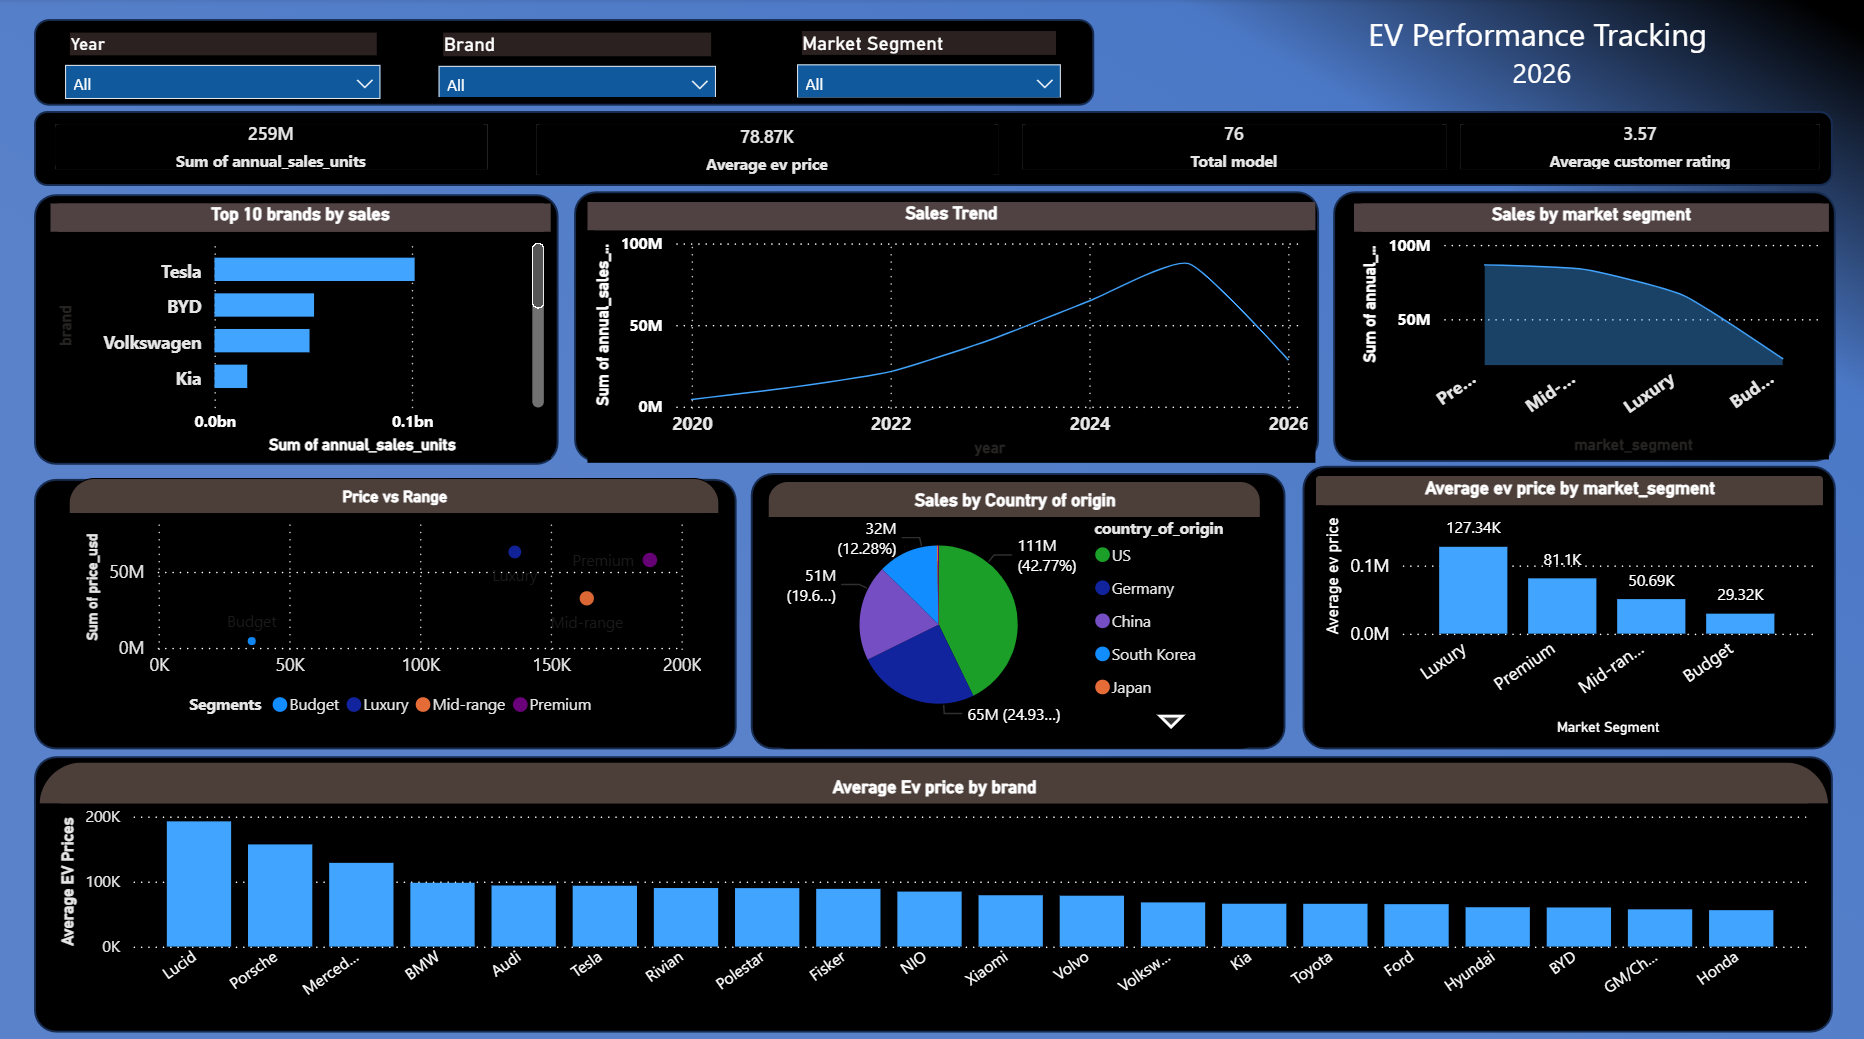

The dashboard page shown, as its layout file describes it:
{"tool":"powerbi","page":{"name":"Page 1","canvas":[1280,720],"ordinal":0},"visuals":[{"type":"cardVisual","title":"Average EV Price","fields":{"Data":["ev_market_2026.Average ev price"]},"box":[363.4,81.4,326.7,45.9],"z":2000},{"type":"columnChart","fields":{"Y":["ev_market_2026.Average ev price"],"Category":["ev_market_2026.market_segment"]},"box":[902.1,326.7,348.5,185.7],"z":3000},{"type":"cardVisual","fields":{"Data":["Sum(ev_market_2026.annual_sales_units)"]},"box":[34.4,81.4,306.1,41.3],"z":4000},{"type":"cardVisual","fields":{"Data":["ev_market_2026.Total model"]},"box":[696.9,81.4,300.3,41.3],"z":6000},{"type":"barChart","title":"Top 10 brands by sales","fields":{"Category":["ev_market_2026.brand"],"Y":["Sum(ev_market_2026.annual_sales_units)"]},"box":[35.5,141,342.7,175.4],"z":8000},{"type":"lineChart","title":"Sales Trend","fields":{"Y":["Sum(ev_market_2026.annual_sales_units)"],"Category":["ev_market_2026.year"]},"box":[403.5,139.8,498.6,178.8],"z":10000},{"type":"scatterChart","title":"Price vs Range","fields":{"X":["Sum(ev_market_2026.range_miles)"],"Y":["Sum(ev_market_2026.price_usd)"],"Series":["ev_market_2026.market_segment"],"Size":["Sum(ev_market_2026.annual_sales_units)"]},"box":[48.1,329,445.9,180],"z":12000},{"type":"lineChart","title":"Sales by market segment","fields":{"Category":["ev_market_2026.market_segment"],"Y":["Sum(ev_market_2026.annual_sales_units)"]},"box":[928.5,141,325.5,175.4],"z":14000},{"type":"clusteredColumnChart","title":"Average Ev price by brand","fields":{"Category":["ev_market_2026.brand"],"Y":["ev_market_2026.Average ev price"]},"box":[27.5,522.7,1226.5,181.1],"z":16000},{"type":"slicer","fields":{"Values":["ev_market_2026.year"]},"box":[35.5,18.3,236.1,50.4],"z":18000},{"type":"slicer","fields":{"Values":["ev_market_2026.market_segment"]},"box":[537.6,17.2,200.6,50.4],"z":19000},{"type":"slicer","fields":{"Values":["ev_market_2026.brand"]},"box":[292.3,18.3,209.8,49.3],"z":20000},{"type":"cardVisual","fields":{"Data":["ev_market_2026.Average customer rating"]},"box":[997.3,81.4,256.8,41.3],"z":21000},{"type":"pieChart","title":"Sales by Country of origin","fields":{"Category":["ev_market_2026.country_of_origin"],"Y":["Sum(ev_market_2026.annual_sales_units)"]},"box":[527.3,331.3,338.2,183.4],"z":23000},{"type":"textbox","box":[841.4,4.6,432.1,76.8],"z":24000}]}

Visuals, with their boxes in screenshot pixels (x1, y1, x2, y2), scaled from the page's 1280x720 canvas onto the 1864x1039 screenshot:
"Average EV Price" cardVisual: box(529, 117, 1005, 184)
columnChart - ev_market_2026.Average ev price x ev_market_2026.market_segment: box(1314, 471, 1821, 739)
cardVisual - Sum(ev_market_2026.annual_sales_units): box(50, 117, 496, 177)
cardVisual - ev_market_2026.Total model: box(1015, 117, 1452, 177)
"Top 10 brands by sales" barChart: box(52, 203, 551, 457)
"Sales Trend" lineChart: box(588, 202, 1314, 460)
"Price vs Range" scatterChart: box(70, 475, 719, 735)
"Sales by market segment" lineChart: box(1352, 203, 1826, 457)
"Average Ev price by brand" clusteredColumnChart: box(40, 754, 1826, 1016)
slicer - ev_market_2026.year: box(52, 26, 396, 99)
slicer - ev_market_2026.market_segment: box(783, 25, 1075, 98)
slicer - ev_market_2026.brand: box(426, 26, 731, 98)
cardVisual - ev_market_2026.Average customer rating: box(1452, 117, 1826, 177)
"Sales by Country of origin" pieChart: box(768, 478, 1260, 743)
textbox: box(1225, 7, 1855, 117)
